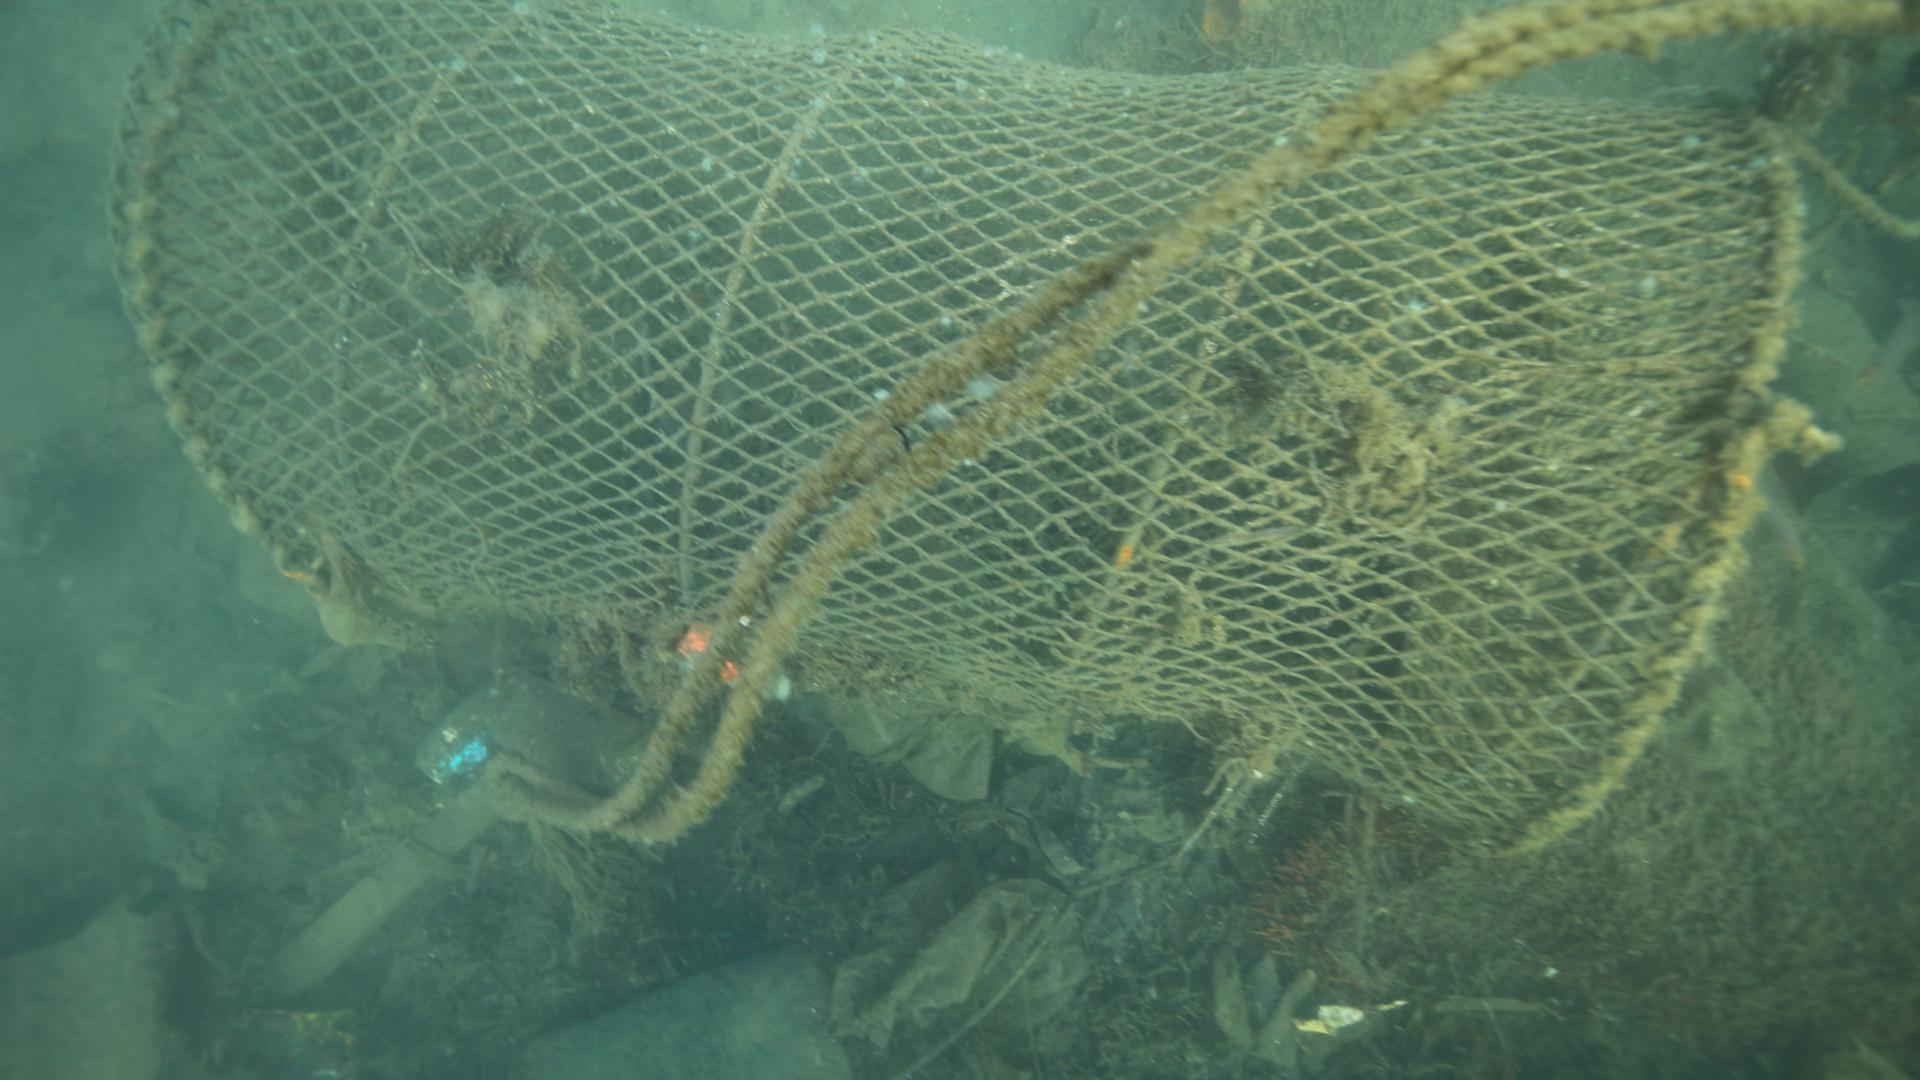bundle of ropes: (480, 1, 1920, 845)
spring fish trap: (109, 1, 1803, 857)
